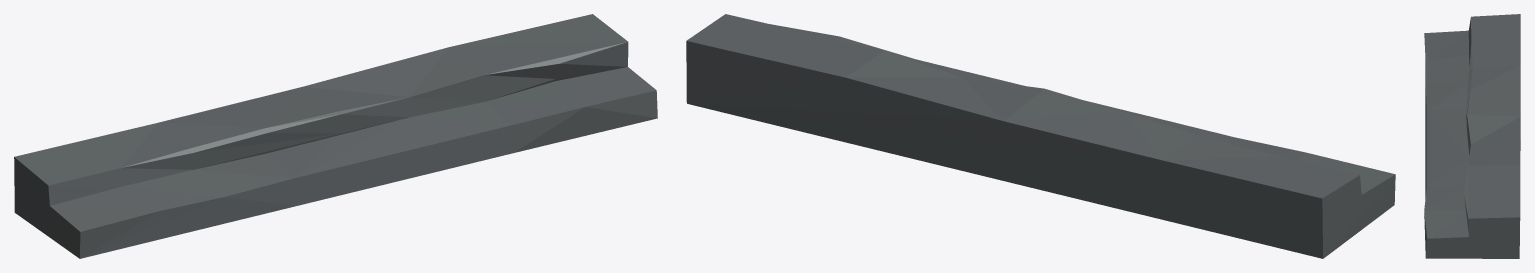
Rendered from MCastle_Steps_12.FBX.
3 views of the same model, side by side, from view 1: azimuth 30°, elevation 25°; view 2: azimuth 150°, elevation 25°; view 3: azimuth 270°, elevation 25° (orthographic). The views are drawn at different scales.
Visible parts, largest first — view 1: MCastle_Steps_12_LOD0; view 2: MCastle_Steps_12_LOD0; view 3: MCastle_Steps_12_LOD0.
Part boxes in pixels (x1=…): MCastle_Steps_12_LOD0: x1=14, y1=14, x2=657, y2=258; MCastle_Steps_12_LOD0: x1=686, y1=14, x2=1395, y2=258; MCastle_Steps_12_LOD0: x1=1424, y1=14, x2=1520, y2=258.
Size of what is drawn, in the model's own units: 4.01 by 0.3926 by 0.7982.
